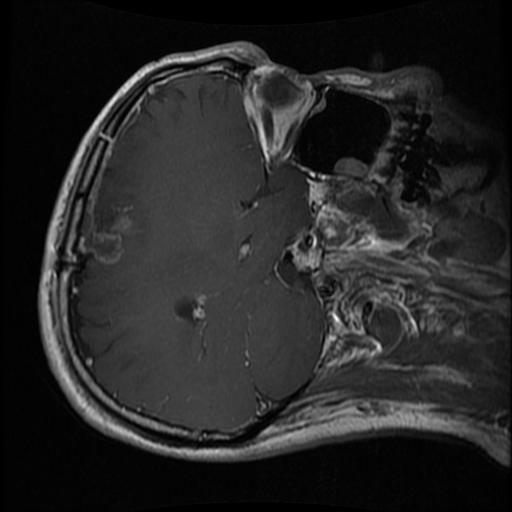glioma: (84, 213, 133, 264)
